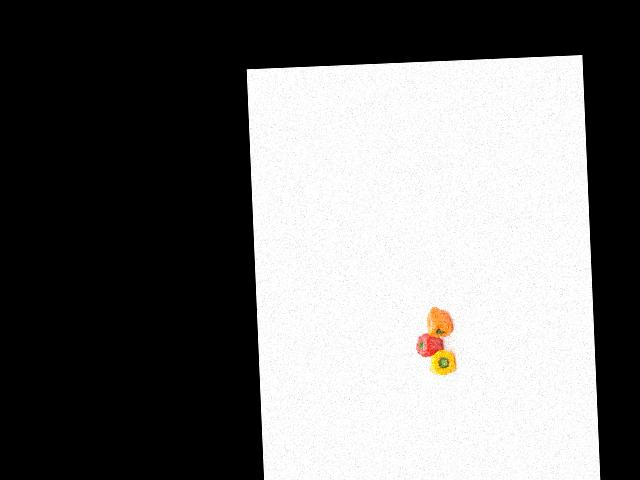bell_pepper: (427, 346, 456, 377)
